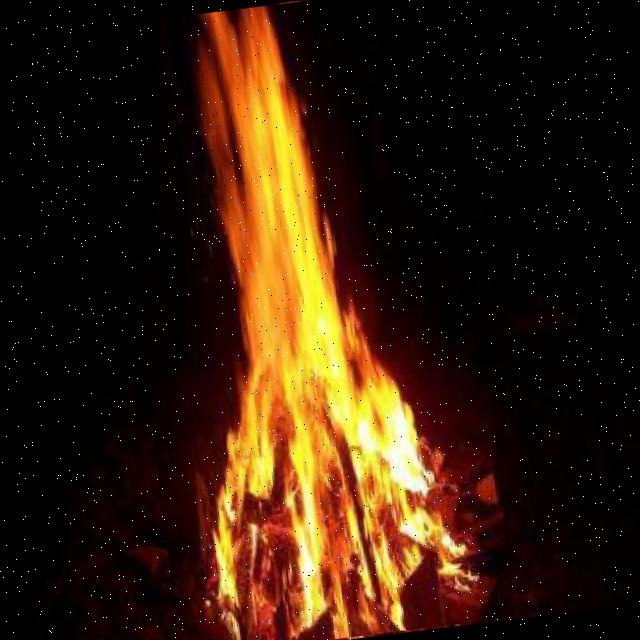fire: (102, 0, 515, 640)
